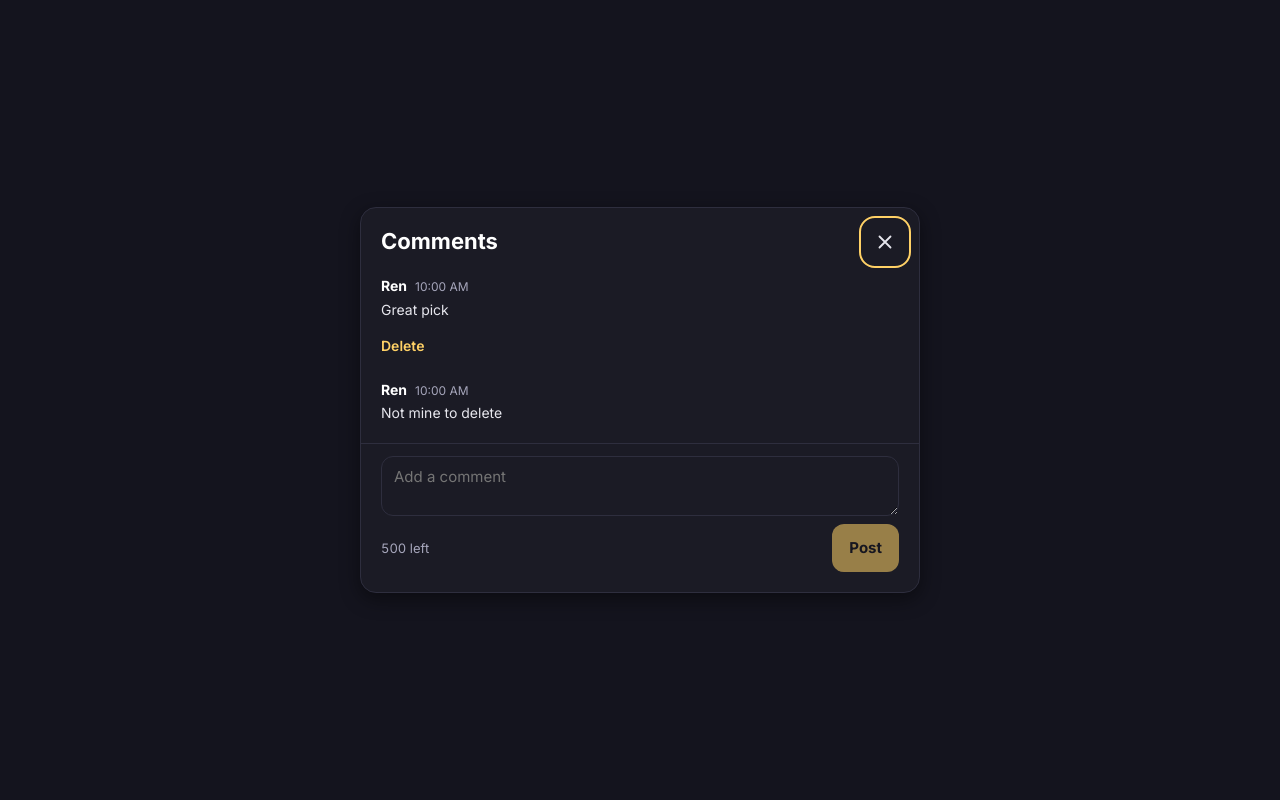
CommentsSheet › Delete on your own comment asks, then removes it; Keep backs out
Check: the text "Great pick" is shown, box [381,301,449,318]
Step 1. Click the button with aria-label "Delete comment" → (403, 346), box [381,324,424,368]
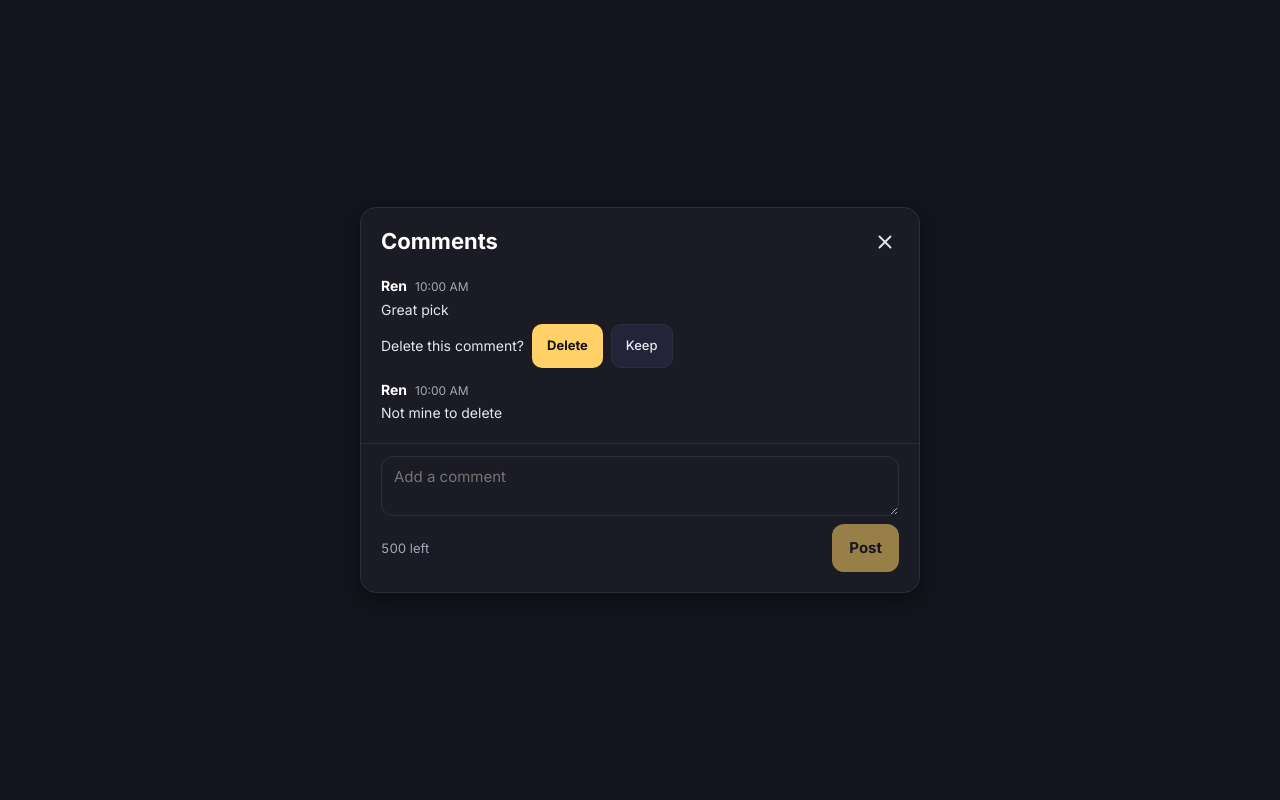
Step 2. Click the button "Keep" → (642, 346), box [611,324,672,368]
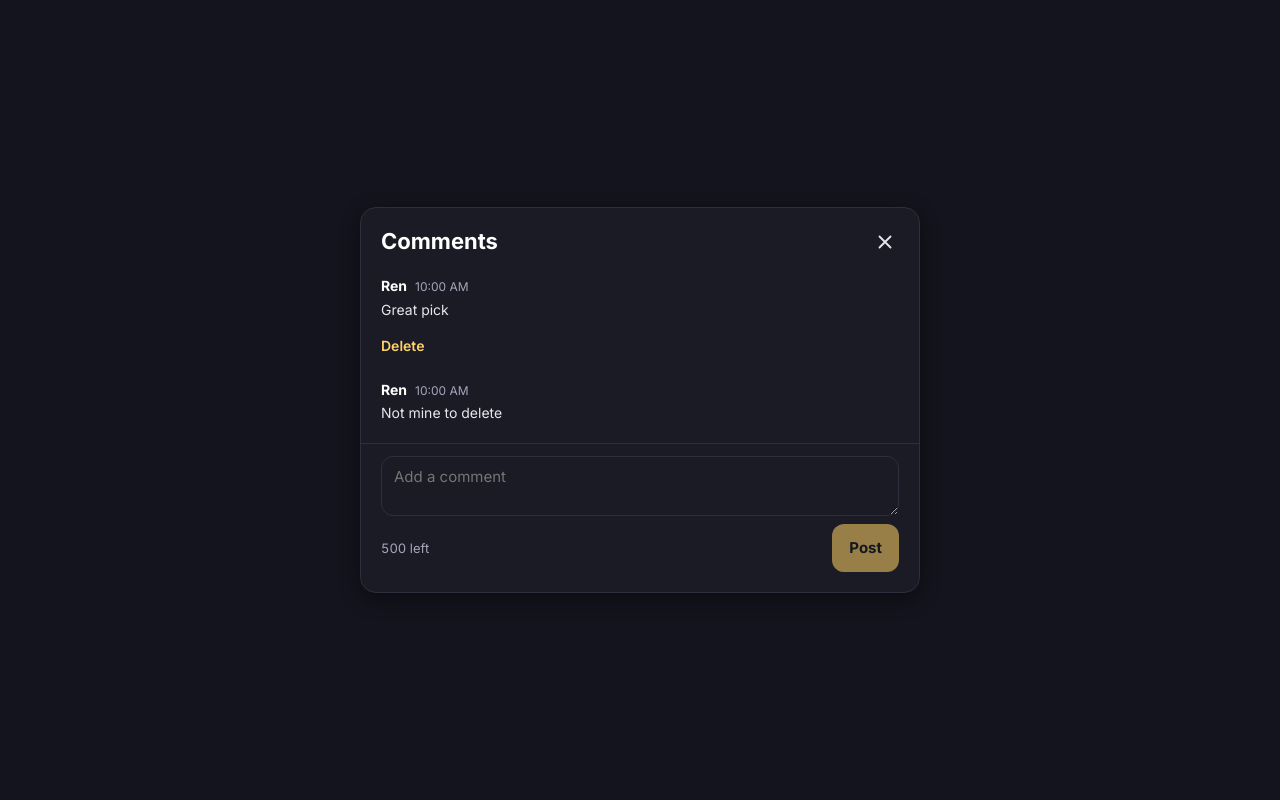
Check: the text "Great pick" is shown, box [381,301,449,318]
Step 3. Click the button with aria-label "Delete comment" → (403, 346), box [381,324,424,368]
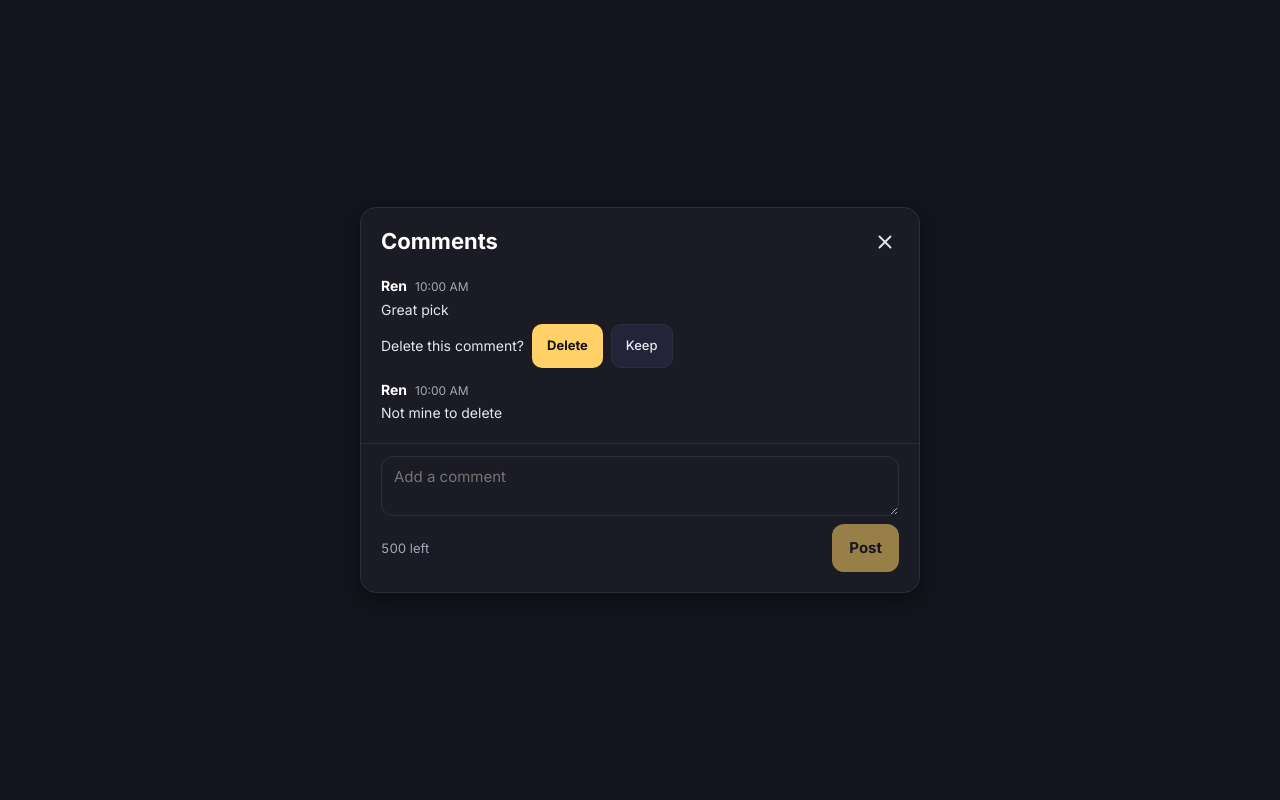
Step 4. Click the button "Delete" → (567, 346), box [532,324,603,368]
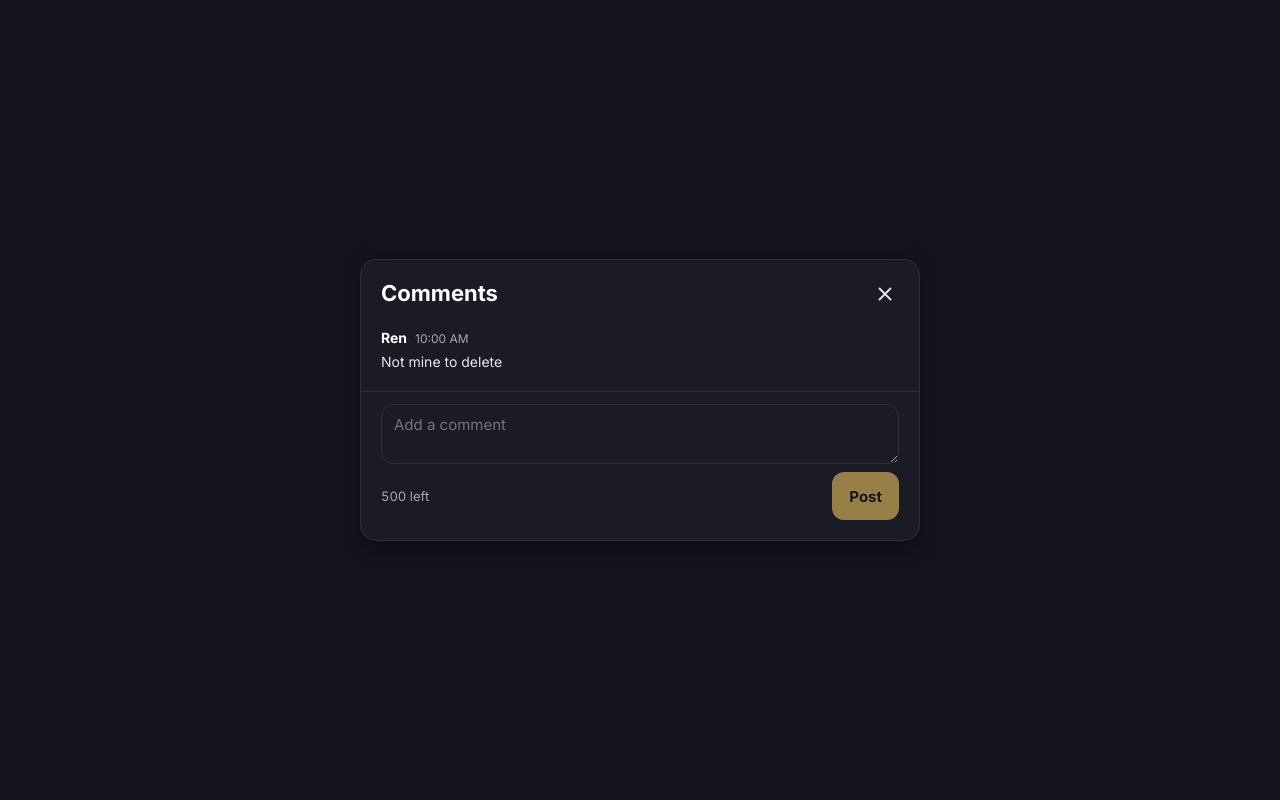
Check: the text "Not mine to delete" is shown, box [381,353,502,370]
Check: the text "Great pick" is gone
